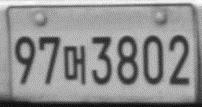0: (142, 35, 164, 84)
2: (168, 34, 190, 85)
3: (91, 36, 112, 85)
7: (38, 35, 60, 85)
8: (116, 34, 138, 85)
9: (14, 36, 35, 85)
머: (62, 44, 86, 85)
